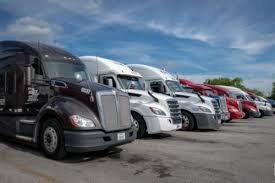truck: (1, 40, 136, 157), (79, 56, 182, 136), (125, 64, 221, 132)
